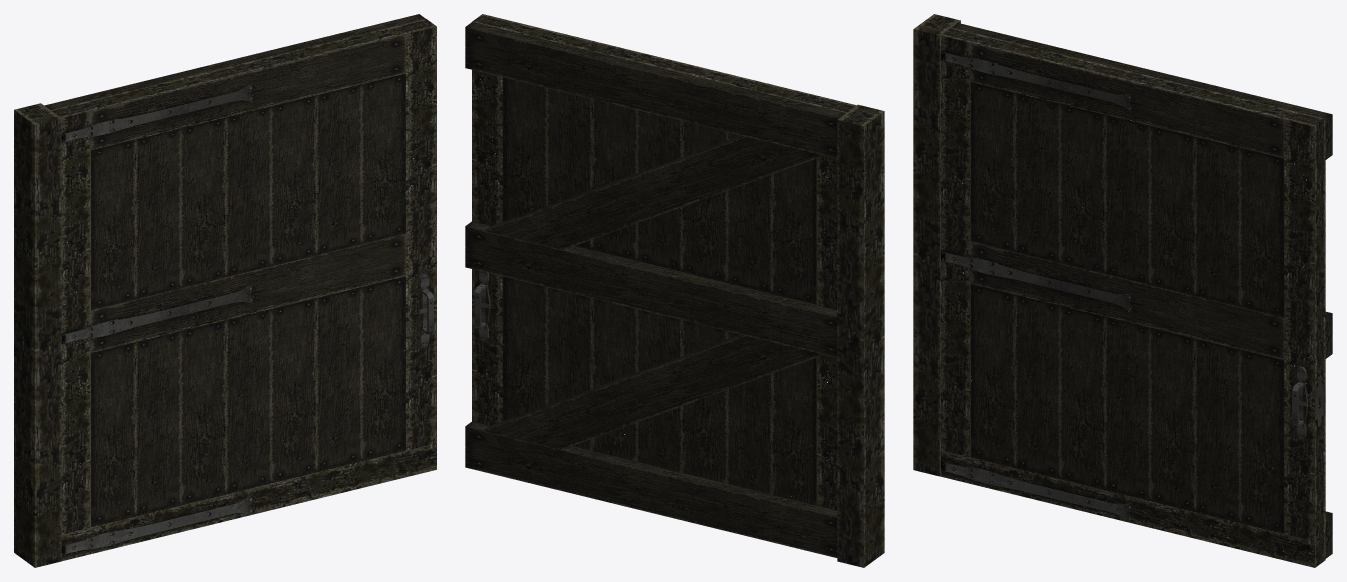
File: pubgate02.DAE
The picture shows the model from 3 angles, left to right: view 1: azimuth 30°, elevation 25°; view 2: azimuth 150°, elevation 25°; view 3: azimuth 330°, elevation 25°; orthographic projection.
Parts seen in each view (by area): view 1: Box007, Object102, Box039; view 2: Box007, Object102, Box039; view 3: Box007, Object102, Box039.
Part boxes in pixels (x1,y1,x2,y2): Box007: (44, 14, 436, 560); Object102: (14, 103, 61, 567); Box039: (411, 273, 433, 346); Box007: (465, 14, 856, 557); Object102: (837, 104, 884, 567); Box039: (474, 271, 502, 340); Box007: (941, 23, 1332, 567); Object102: (913, 14, 960, 476); Box039: (1292, 366, 1307, 438).
Bounding box in the file's own units: 3.58 × 3.77 × 0.4246.
